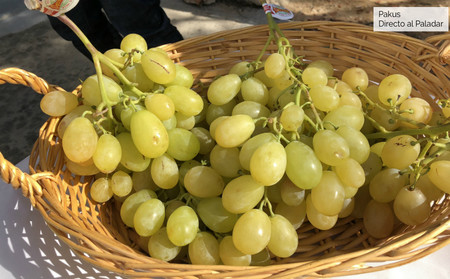Green grapes: (30, 40, 211, 253), (220, 46, 359, 252), (364, 67, 448, 242)
